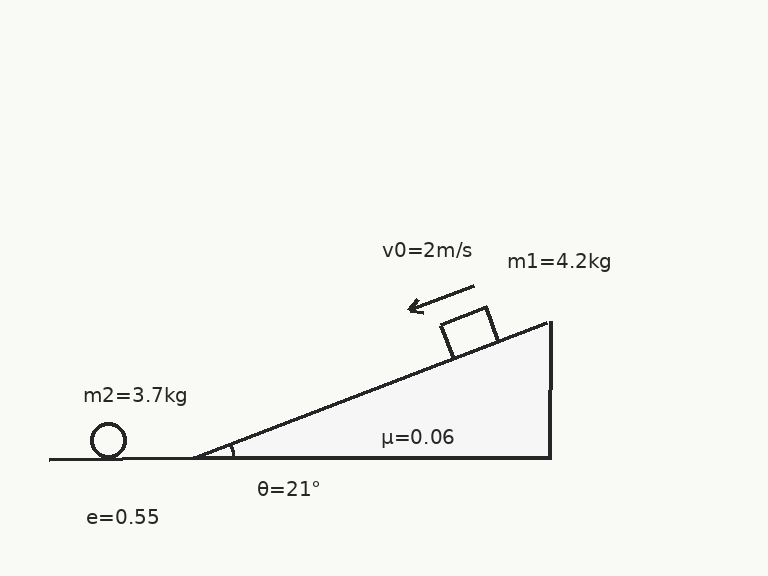ball: (88, 420, 128, 460)
block: (439, 305, 501, 360)
ramp: (191, 319, 551, 460)
